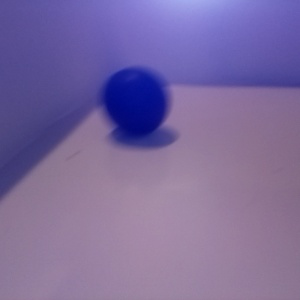dead_ball: (101, 64, 168, 135)
